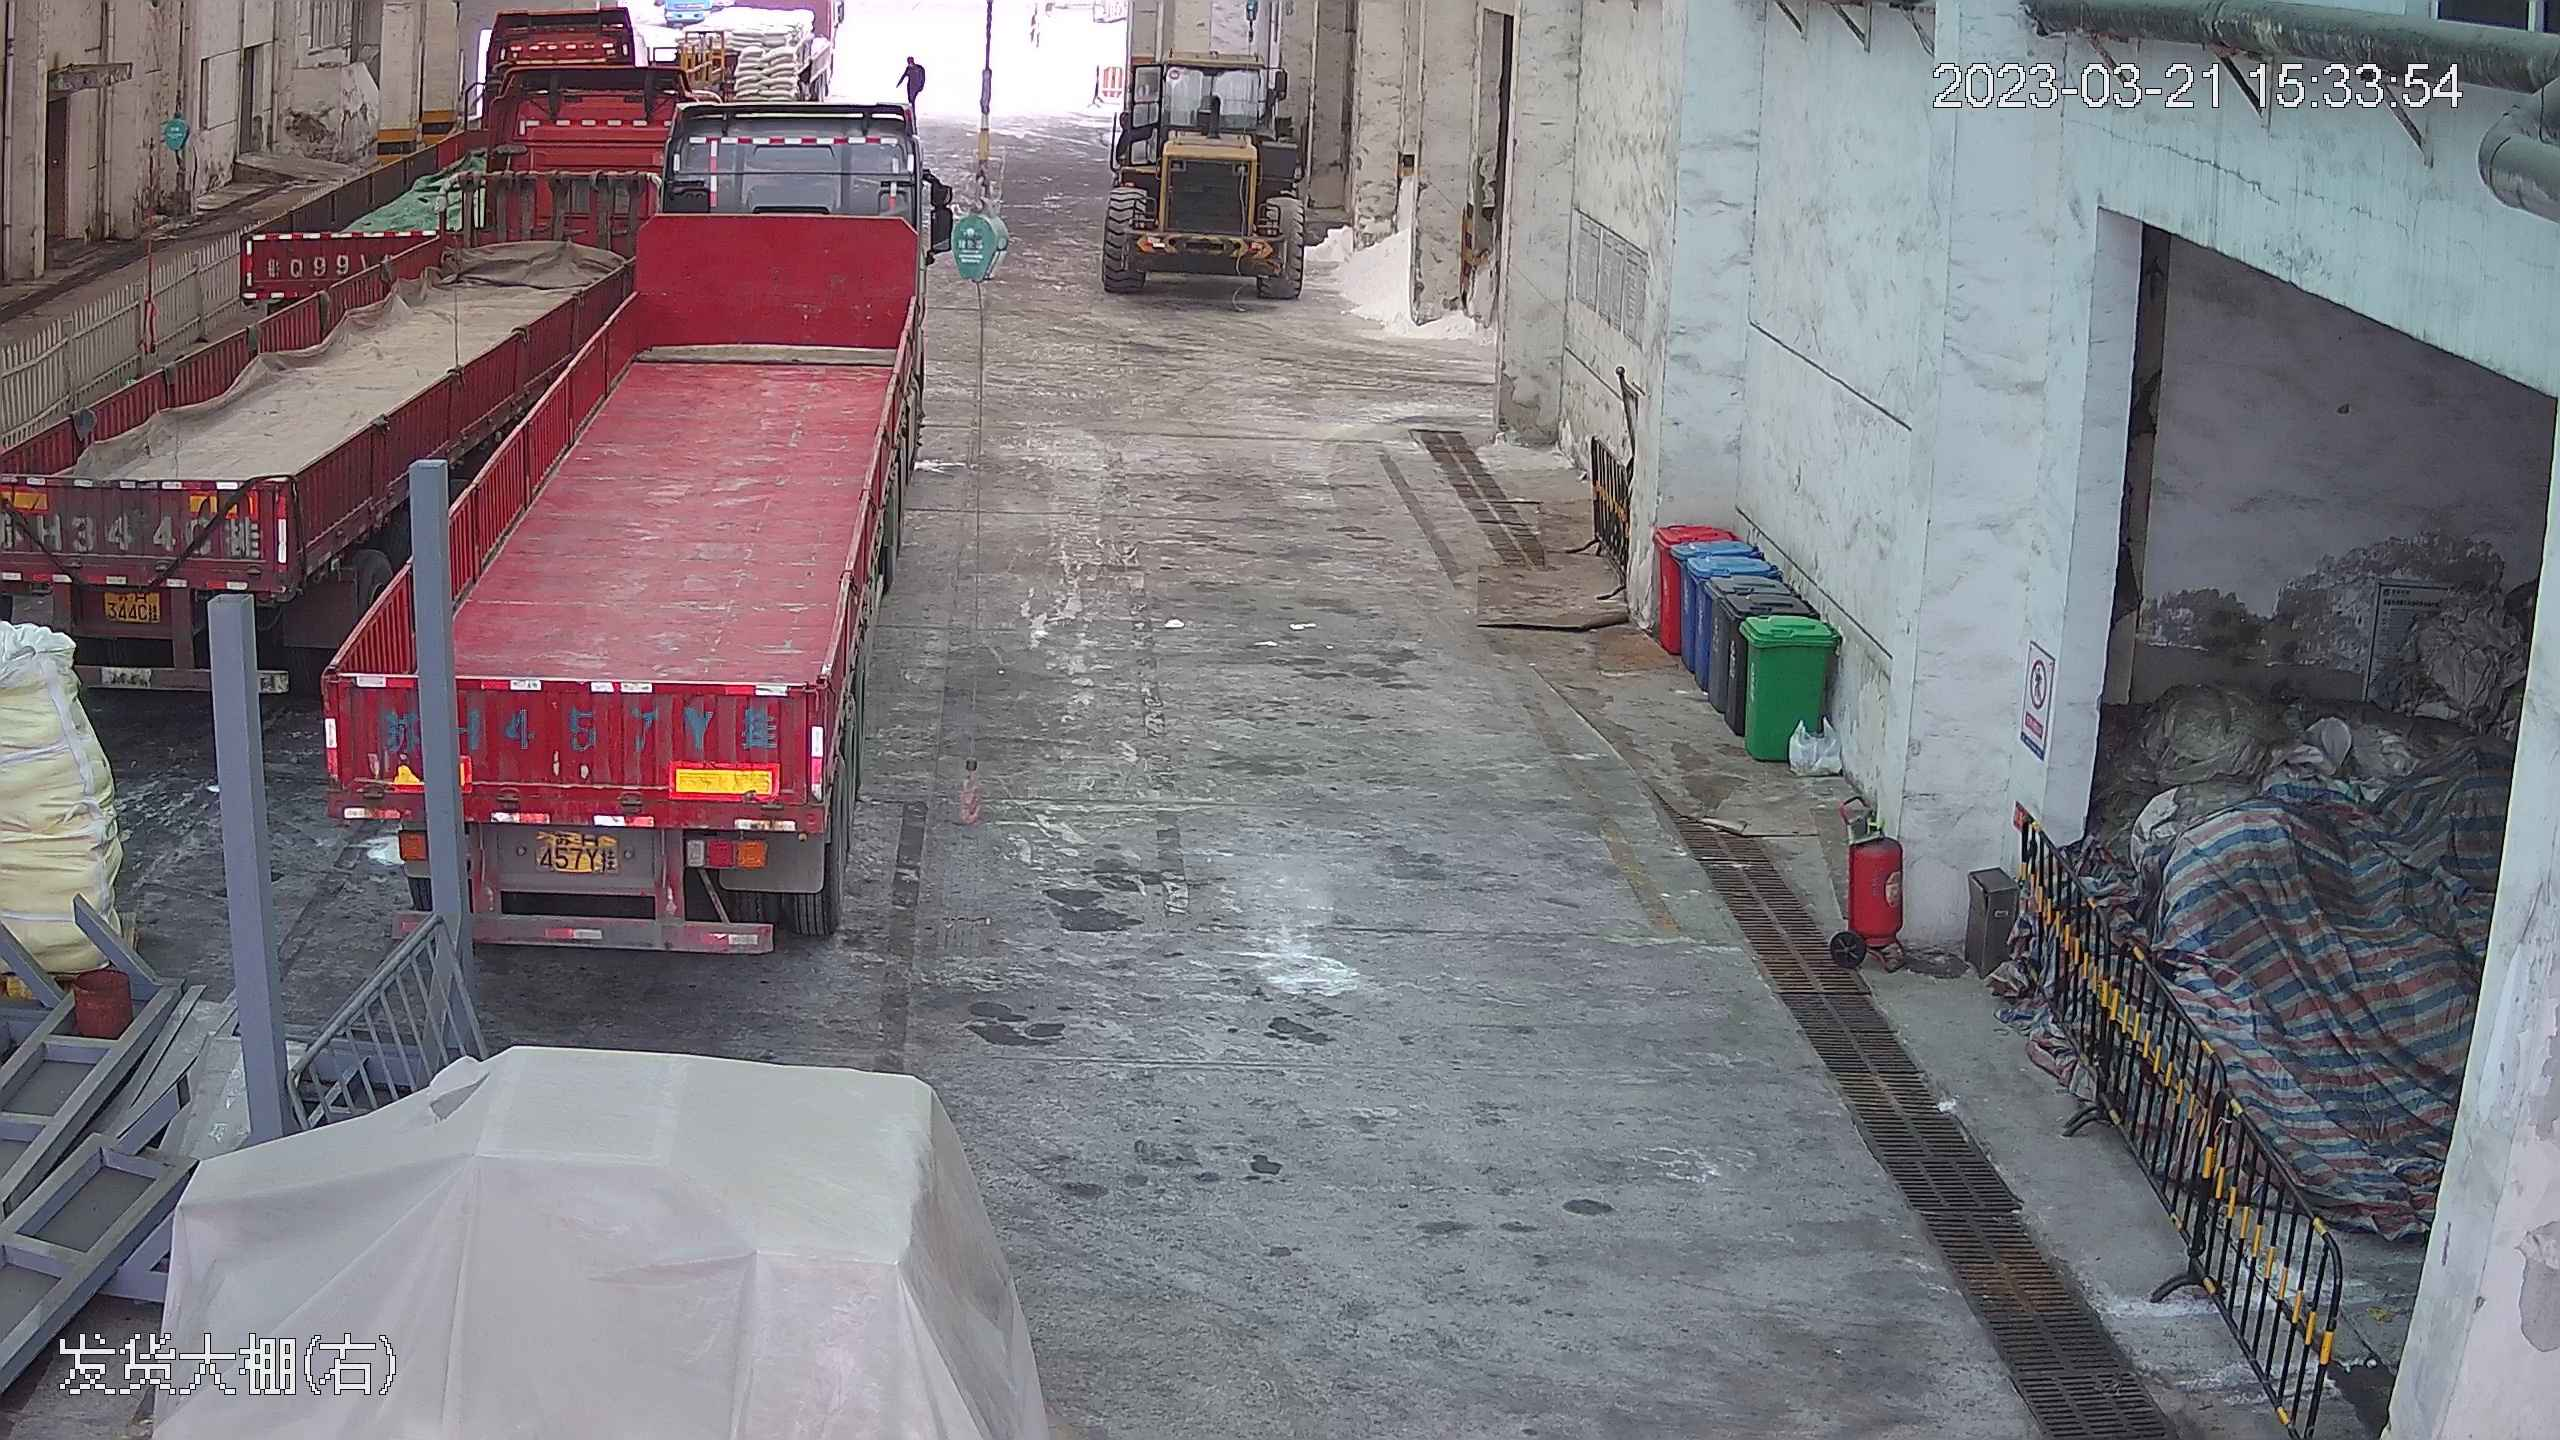people: (893, 46, 931, 144)
truck: (318, 44, 943, 953), (2, 17, 695, 702)
